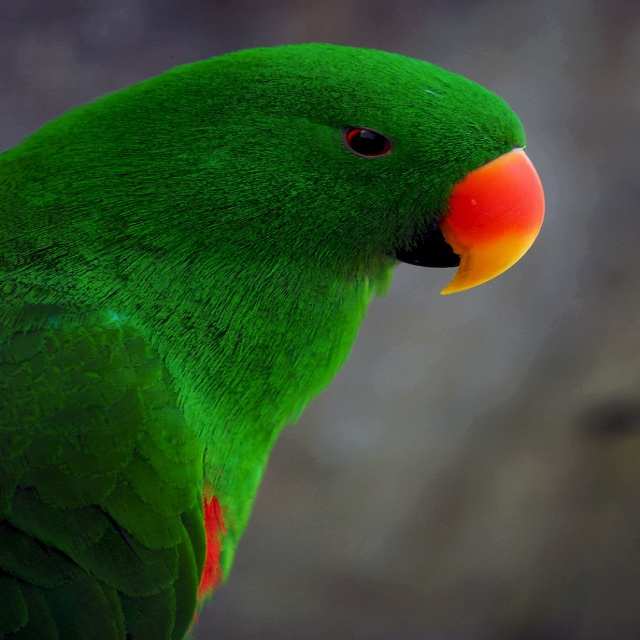Parrot: (1, 37, 546, 637)
